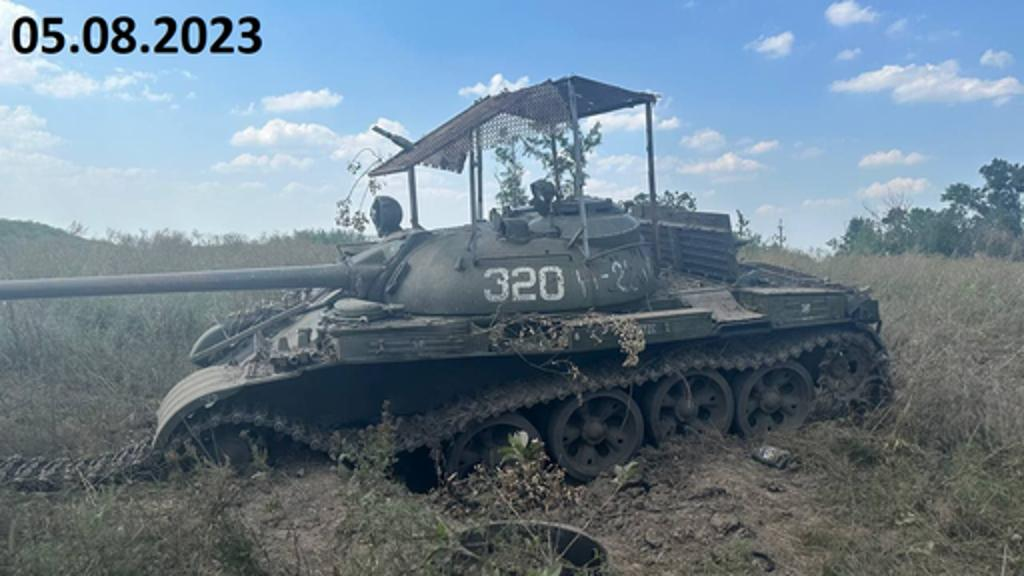TANK: (0, 76, 892, 530)
